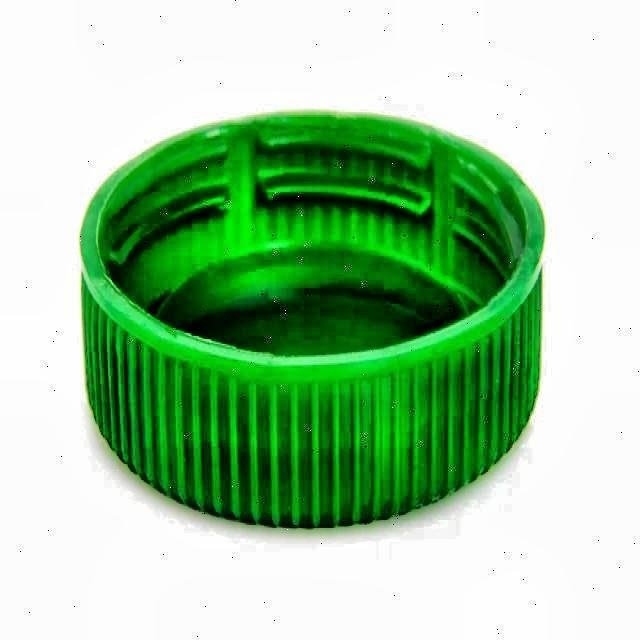plastic: (79, 109, 547, 531)
